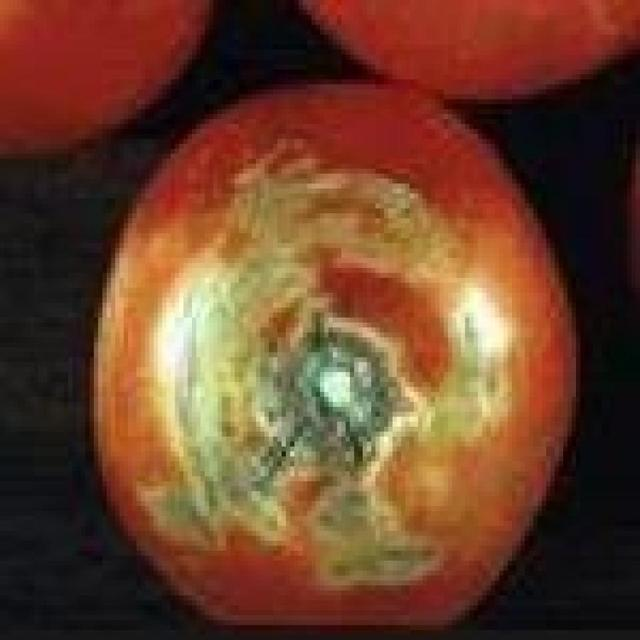Cracking Fruit: (83, 101, 333, 412)
